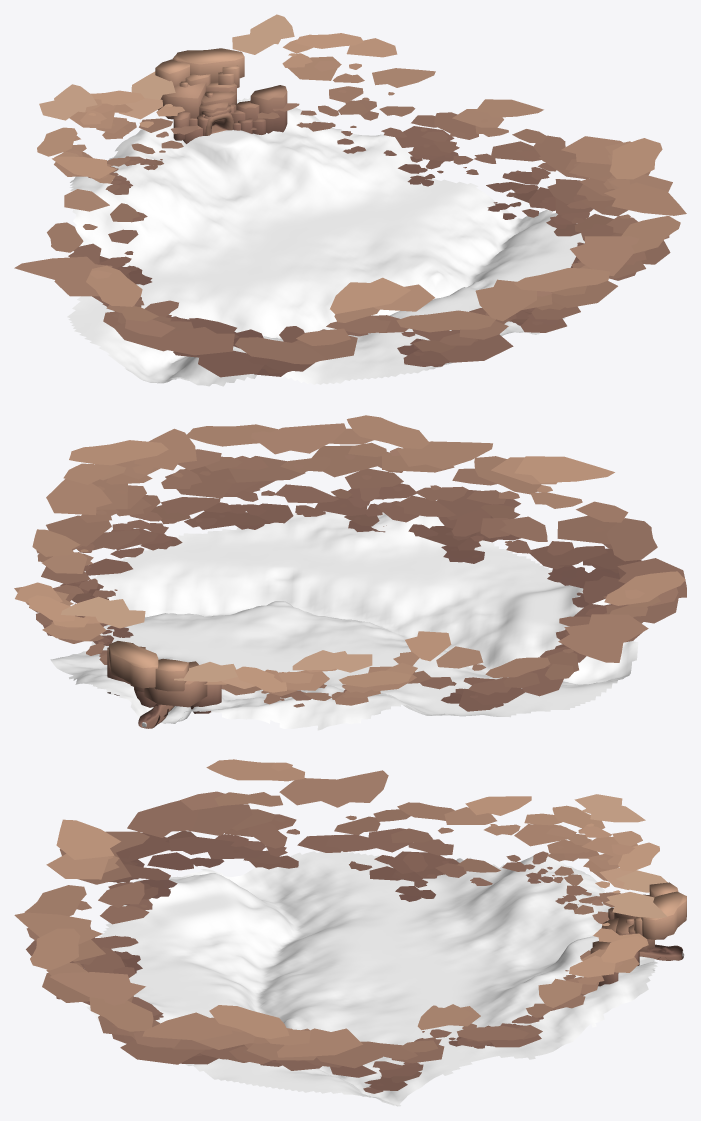
File: overworld_environment.glb
3 views of the same model, one above another, from view 1: azimuth 30°, elevation 25°; view 2: azimuth 150°, elevation 25°; view 3: azimuth 270°, elevation 25° (orthographic). The views are drawn at different scales.
Visible parts, largest first — view 1: Floor-col, Rocks-col, Rocks2-col; view 2: Rocks-col, Floor-col, Rocks2-col, Tunnel-col; view 3: Floor-col, Rocks-col, Rocks2-col, Tunnel-col.
Boxes of the visible parts, bbox=[...] form: Floor-col: bbox=[67, 97, 584, 386]; Rocks-col: bbox=[14, 14, 686, 377]; Rocks2-col: bbox=[155, 48, 287, 143]; Rocks-col: bbox=[14, 415, 686, 711]; Floor-col: bbox=[50, 512, 638, 730]; Rocks2-col: bbox=[107, 641, 221, 713]; Tunnel-col: bbox=[138, 703, 174, 728]; Floor-col: bbox=[84, 851, 657, 1106]; Rocks-col: bbox=[14, 759, 667, 1093]; Rocks2-col: bbox=[590, 882, 686, 986]; Tunnel-col: bbox=[601, 925, 683, 960].
Size of the model in its own units: 719 by 157 by 703.
Materials: 2 (1 with a texture image).
